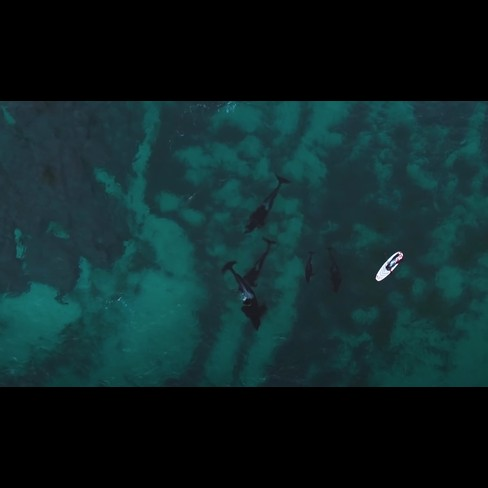boat: (374, 248, 405, 283)
orca: (215, 257, 269, 335), (251, 163, 292, 234), (328, 247, 343, 296), (307, 251, 316, 287)
